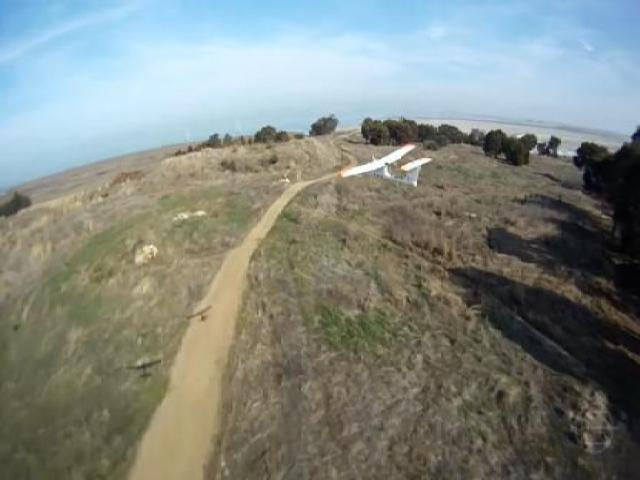uav: (332, 134, 436, 194)
